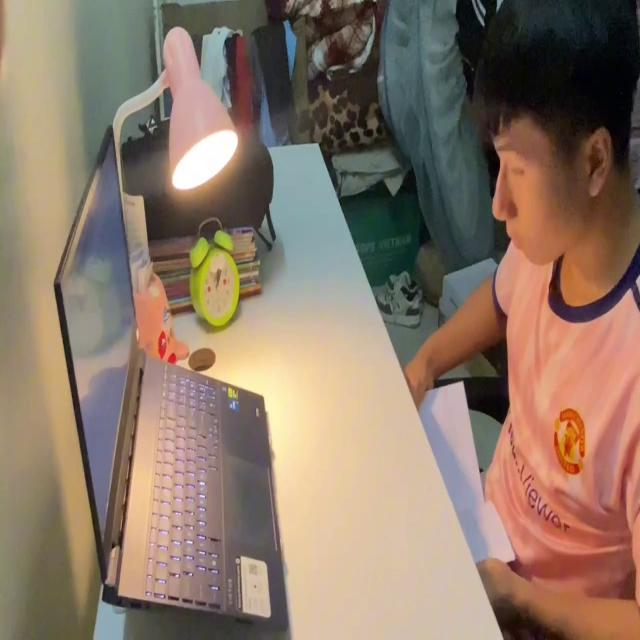book: (416, 374, 517, 574)
laptop: (52, 117, 292, 640)
student: (404, 0, 640, 640)
